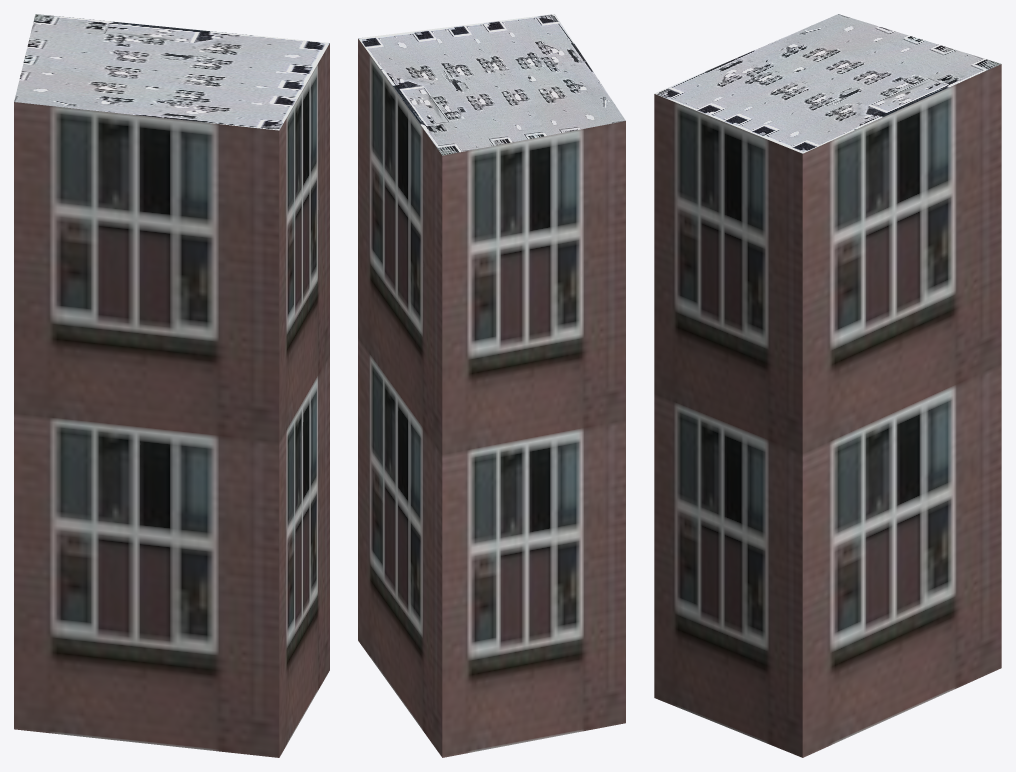
The model's file is ResTex__1799.fbx.
3 views of the same model, side by side, from view 1: azimuth 30°, elevation 25°; view 2: azimuth 150°, elevation 25°; view 3: azimuth 270°, elevation 25° (orthographic). The views are drawn at different scales.
Visible parts, largest first — view 1: CityEngineMaterial_12_m, CityEngineMaterial_m; view 2: CityEngineMaterial_12_m, CityEngineMaterial_m; view 3: CityEngineMaterial_12_m, CityEngineMaterial_m.
Boxes of the visible parts, box(x1,y1,x2,y2) form: CityEngineMaterial_12_m: box(14, 43, 329, 757); CityEngineMaterial_m: box(14, 14, 329, 130); CityEngineMaterial_12_m: box(358, 38, 625, 757); CityEngineMaterial_m: box(358, 14, 625, 155); CityEngineMaterial_12_m: box(654, 64, 1001, 757); CityEngineMaterial_m: box(654, 14, 1000, 153).
Size of the model in its own units: 2.98 by 6 by 3.13.
Materials: 2 (2 with a texture image).
